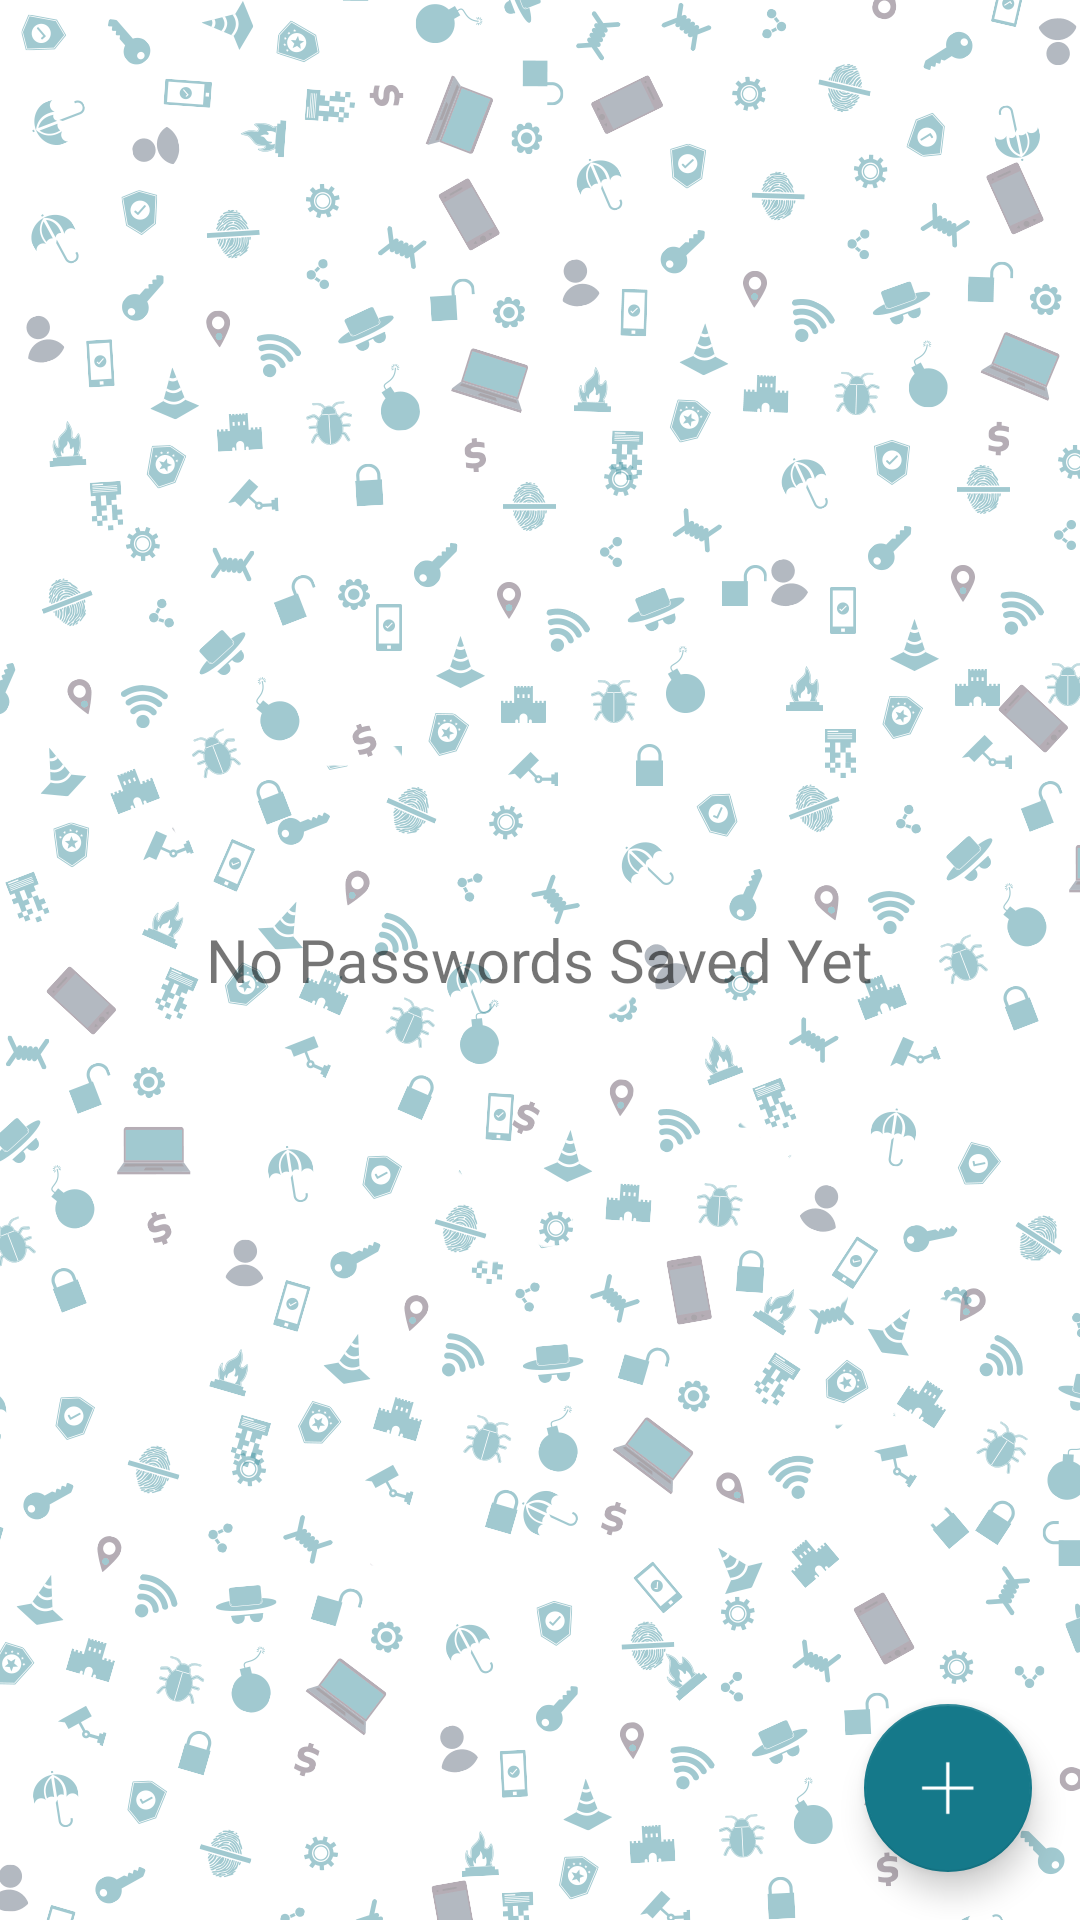

Locate icon controls on the screen. Image size 1080×1920, boxes as (x1, y1, x2, y2).
plus: (864, 1704, 1032, 1872)
